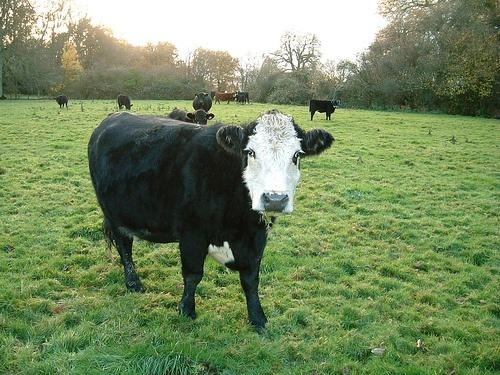cow: (87, 111, 336, 343), (309, 97, 341, 121), (169, 108, 214, 125), (192, 92, 214, 112), (51, 94, 71, 110), (116, 93, 133, 110), (216, 92, 237, 104)
